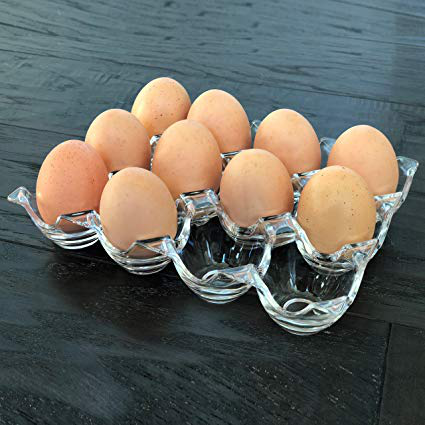egg: (31, 77, 403, 275)
